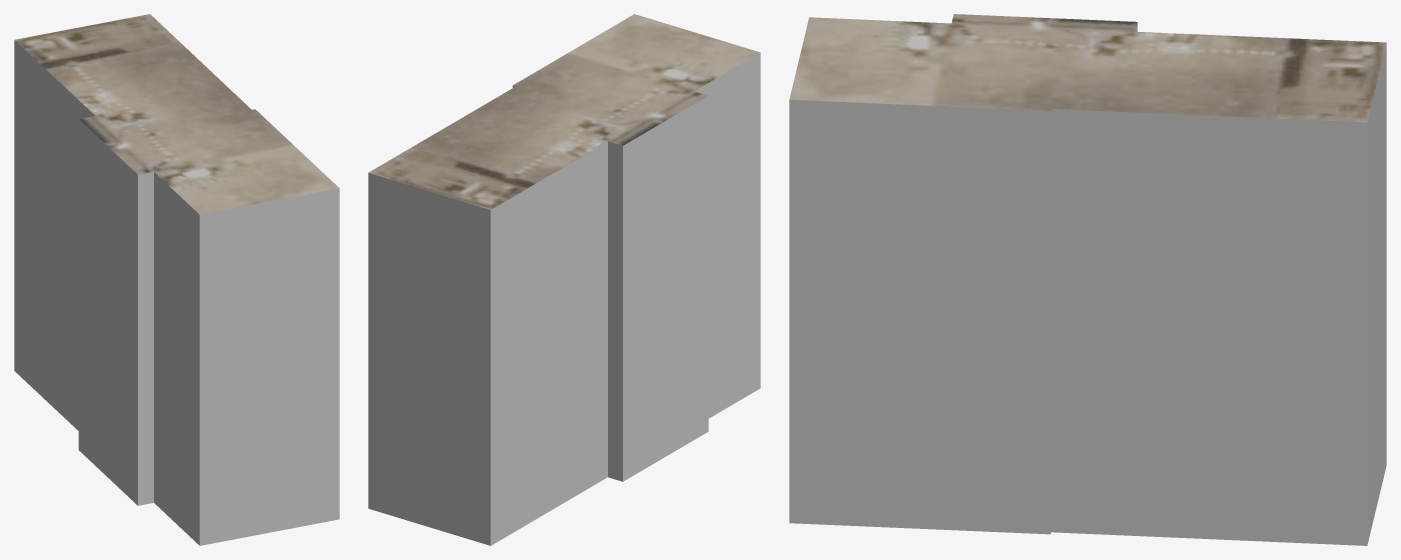
Rendered from DEBW_0010007Txi7.gltf.
3 views of the same model, side by side, from view 1: azimuth 30°, elevation 25°; view 2: azimuth 150°, elevation 25°; view 3: azimuth 270°, elevation 25° (orthographic). The views are drawn at different scales.
Parts seen in each view (by area): view 1: Z_UP; view 2: Z_UP; view 3: Z_UP.
Part boxes in pixels (box(x1,y1,x2,y2)): Z_UP: box(14, 14, 339, 545); Z_UP: box(368, 14, 760, 545); Z_UP: box(789, 14, 1386, 545).
Size of the model in its own units: 14.79 by 26.92 by 34.4.
2 materials, 1 textured.
